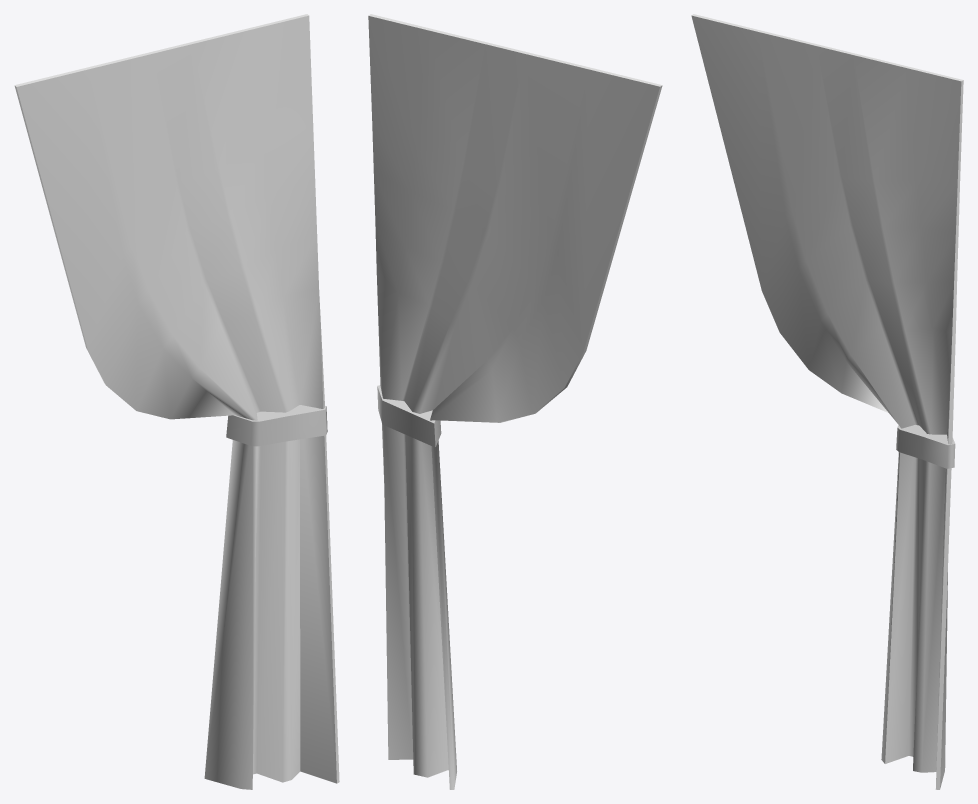
File: Curtains_013.glb
3 views of the same model, side by side, from view 1: azimuth 30°, elevation 25°; view 2: azimuth 150°, elevation 25°; view 3: azimuth 330°, elevation 25° (orthographic). The views are drawn at different scales.
Visible parts, largest first — view 1: Curtains_013; view 2: Curtains_013; view 3: Curtains_013.
Part boxes in pixels (box(x1,y1,x2,y2)): Curtains_013: box(14, 14, 339, 789); Curtains_013: box(368, 14, 662, 789); Curtains_013: box(691, 14, 963, 789).
Bounding box in the file's own units: 1.13 × 2.7 × 0.2558.
Materials: 1 (1 with a texture image).
